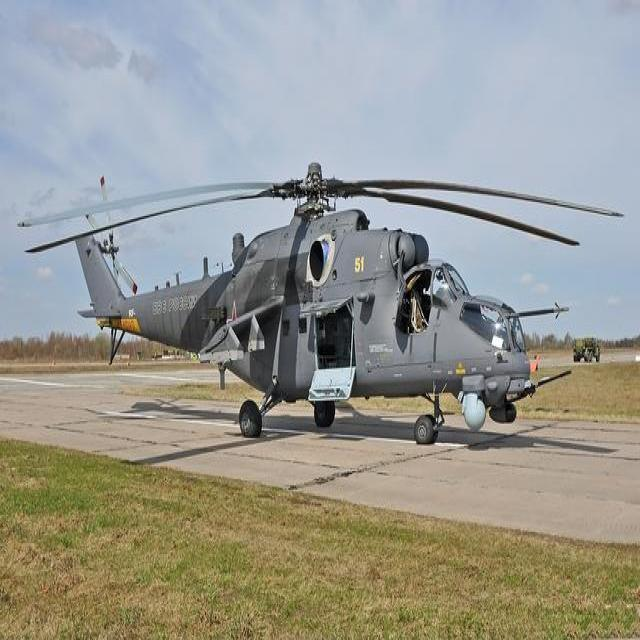MIL_HELO: (16, 157, 624, 450)
